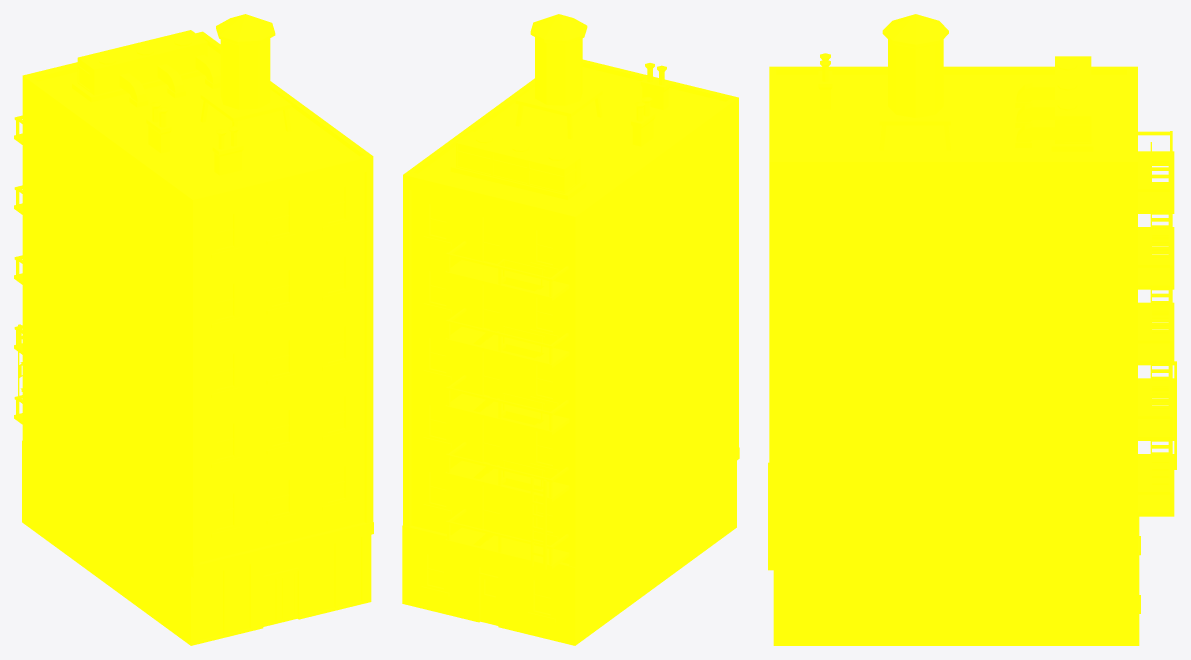
The model's file is building-block-5floor-short.glb.
3 views of the same model, side by side, from view 1: azimuth 30°, elevation 25°; view 2: azimuth 150°, elevation 25°; view 3: azimuth 270°, elevation 25° (orthographic). The views are drawn at different scales.
Visible parts, largest first — view 1: building-block-5floor-short; view 2: building-block-5floor-short; view 3: building-block-5floor-short.
Part boxes in pixels (x1,y1,x2,y2): building-block-5floor-short: [14, 14, 373, 645]; building-block-5floor-short: [402, 14, 739, 645]; building-block-5floor-short: [768, 14, 1176, 645].
Size of the model in its own units: 8.1 by 23.81 by 14.7.
1 material, 1 textured.
